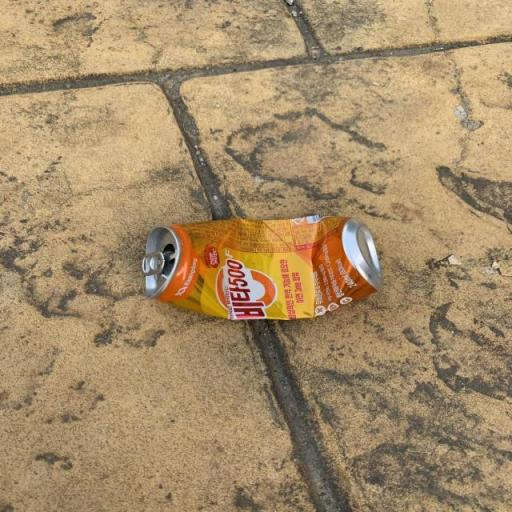metal: (116, 181, 402, 344)
